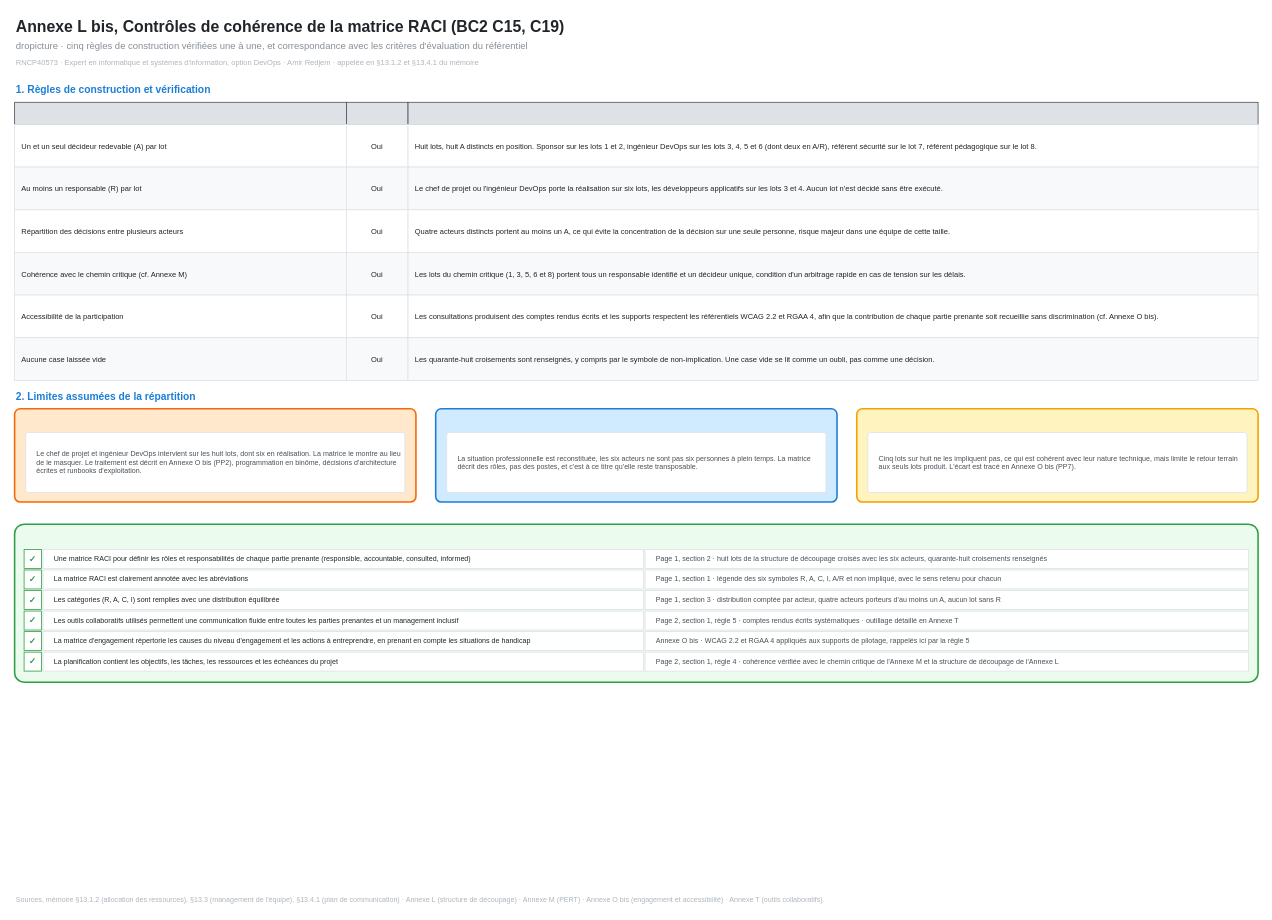
The diagram is 1272 pixels wide and 920 high, and some of its shapes have lost their labels. Each missing label, with the box of its shape:
CONCENTRATION SUR UN ACTEUR: (13, 408, 416, 502)
CRITÈRES DU RÉFÉRENTIEL COUVERTS: (13, 523, 1258, 683)
Détail de la vérification: (407, 102, 1258, 124)
Règle de construction: (14, 102, 346, 124)
UTILISATEURS BÊTA PEU SOLLICITÉS: (856, 408, 1258, 502)
Vérifié: (346, 102, 408, 124)
ÉQUIPE RECONSTITUÉE: (434, 408, 837, 502)
